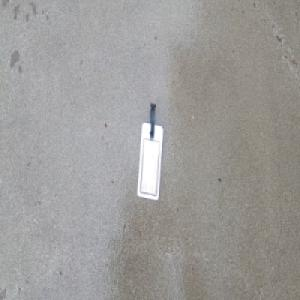LuggageTag: (136, 103, 164, 200)
